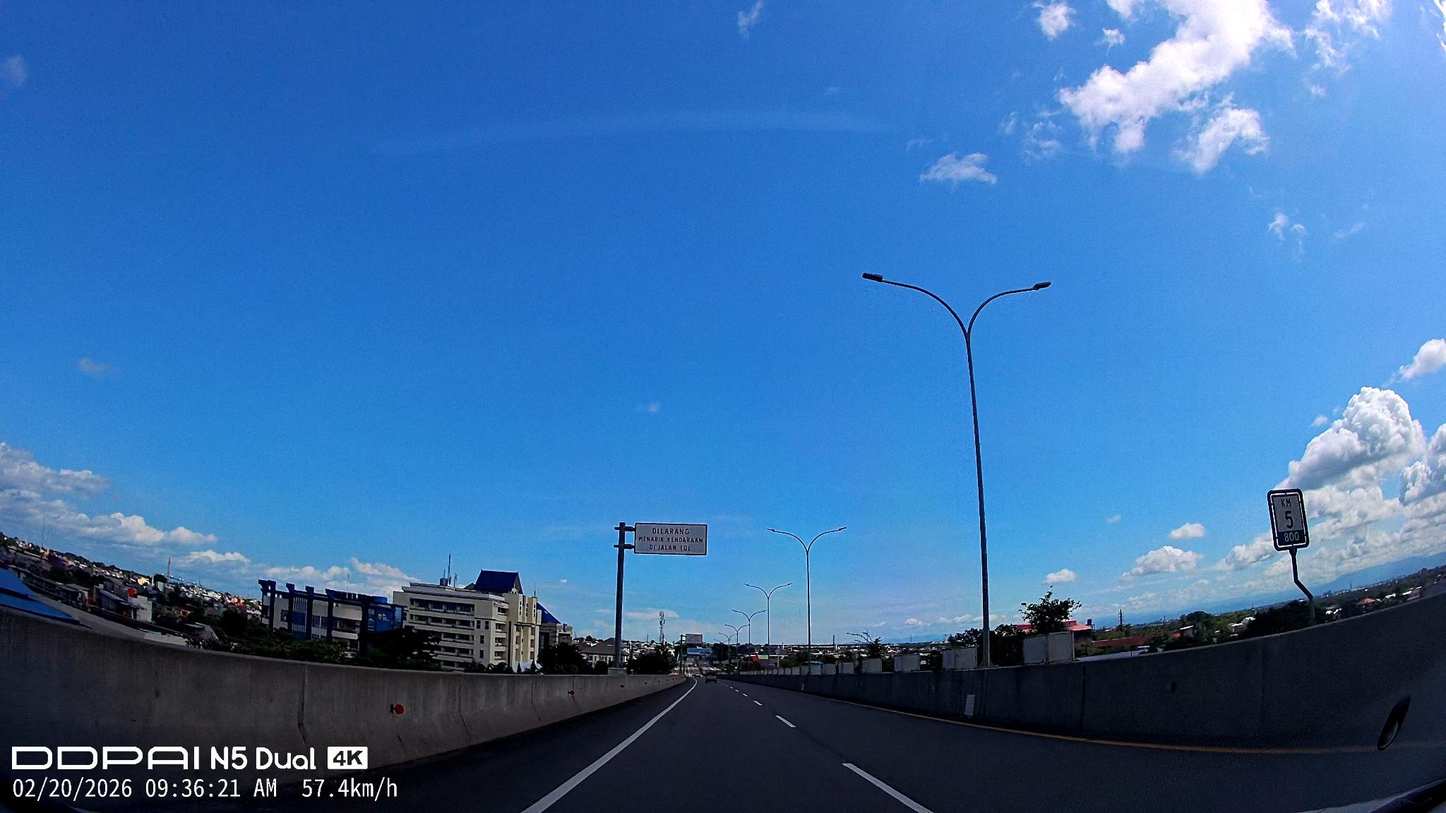rambu_teks: (634, 522, 707, 557)
